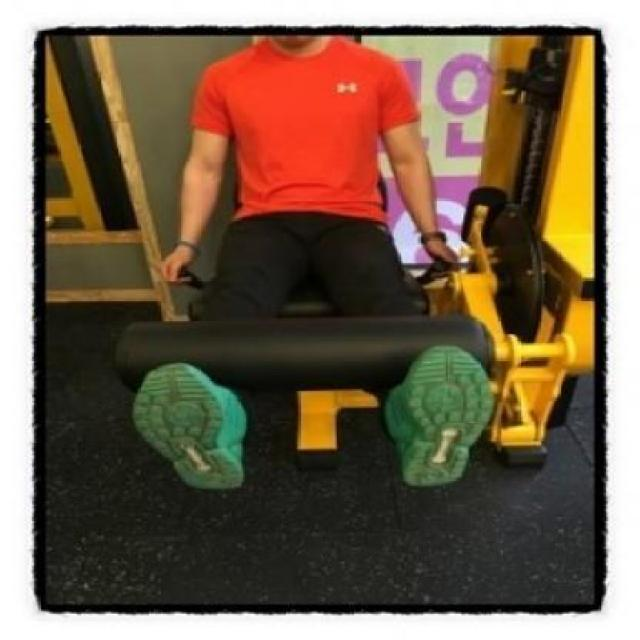leg extension: (76, 26, 606, 497)
